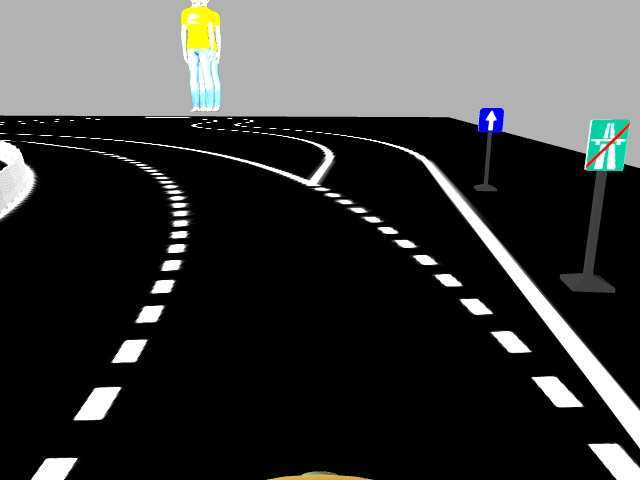HighwayExit: (585, 118, 626, 170)
OneWay: (478, 106, 505, 131)
